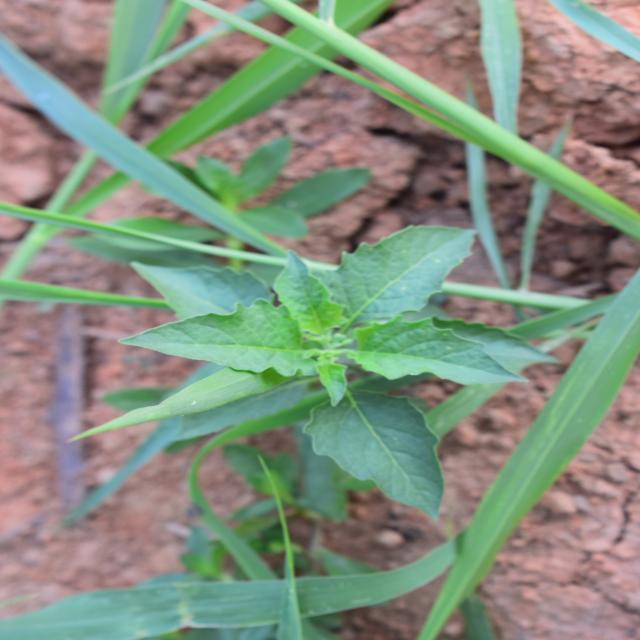Black_nightshade: (154, 152, 410, 522)
